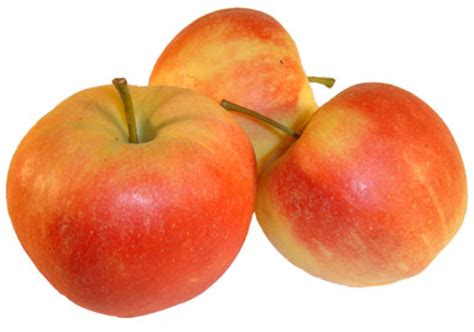apple: (2, 81, 264, 321), (252, 81, 470, 289), (145, 5, 338, 177)
